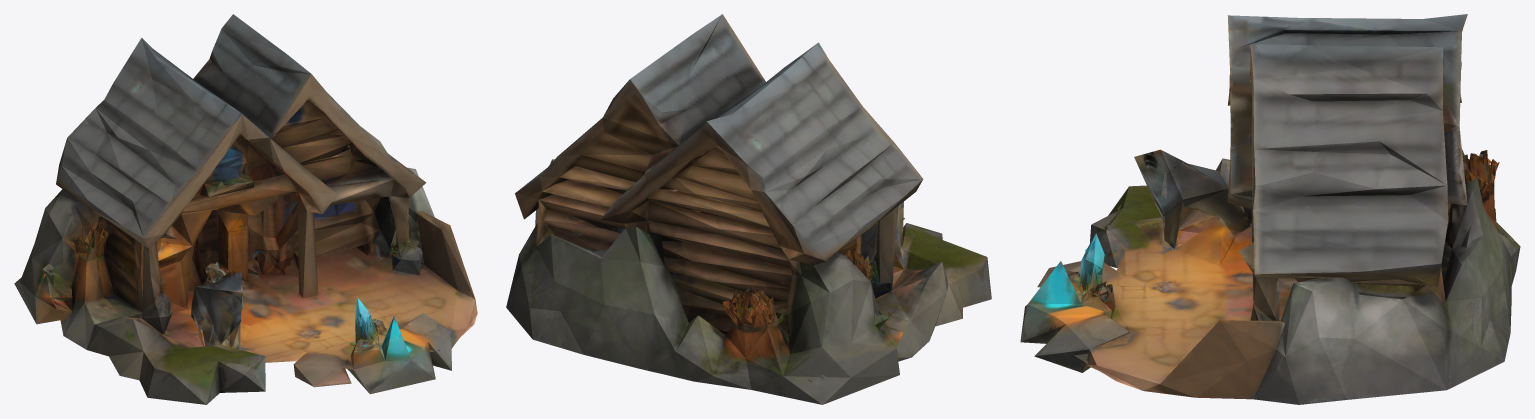
The model's file is Guardian_s_Den_den_w_0409154112_texture.fbx.
3 renders of one model, left to right at view 1: azimuth 30°, elevation 25°; view 2: azimuth 150°, elevation 25°; view 3: azimuth 270°, elevation 25°, orthographic. The views are drawn at different scales.
Visible parts, largest first — view 1: temp; view 2: temp; view 3: temp.
Boxes of the visible parts, x1,y1,x2,y2 form: temp: (14,14,477,404); temp: (506,14,991,404); temp: (1020,14,1520,404).
Bounding box in the file's own units: 200 × 131 × 201.
1 material, 1 textured.
